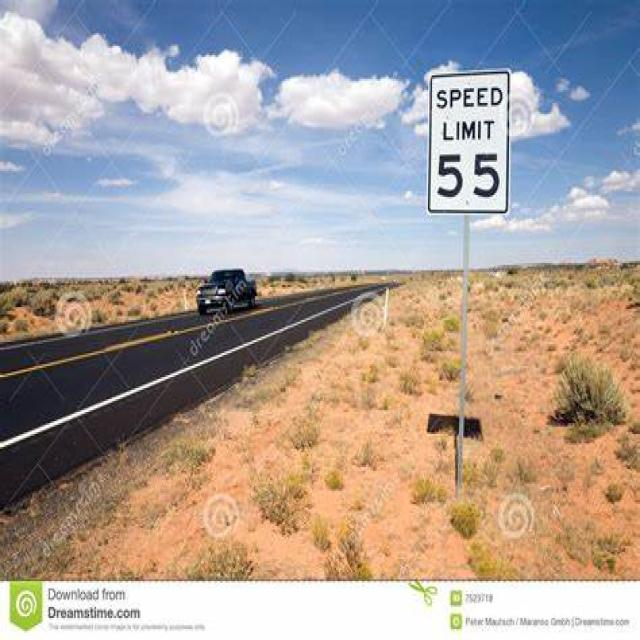speedLimit55: (427, 74, 506, 226)
